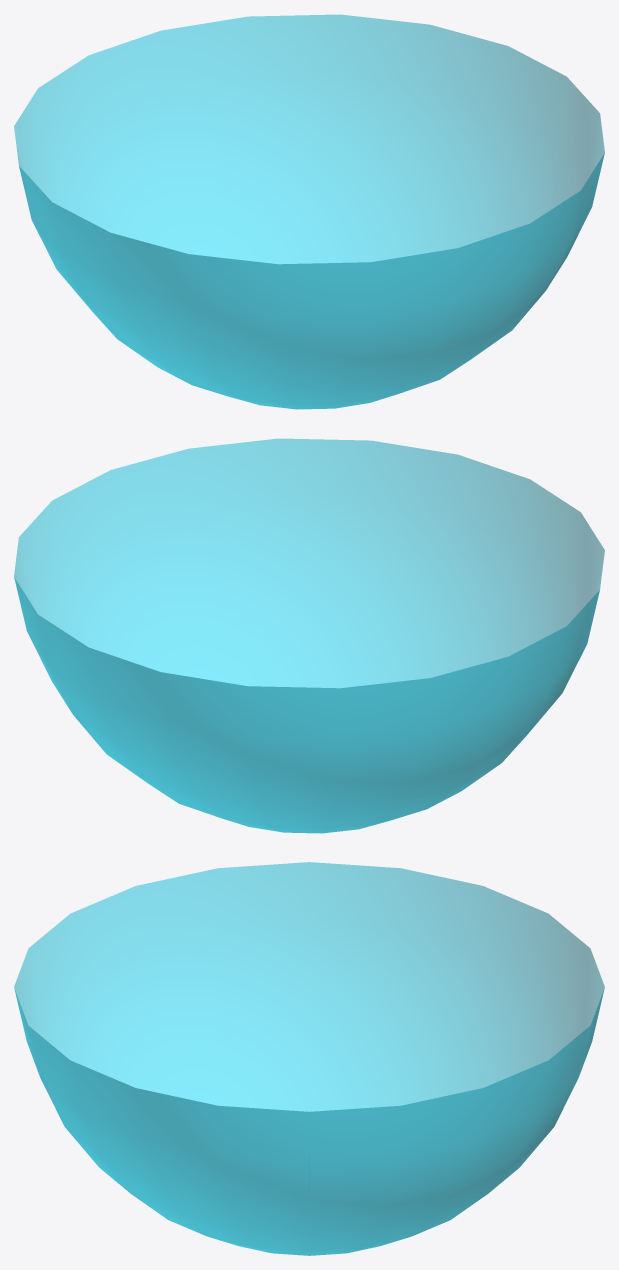
The model's file is CupulaRing.fbx.
3 renders of one model, top to bottom at view 1: azimuth 30°, elevation 25°; view 2: azimuth 150°, elevation 25°; view 3: azimuth 270°, elevation 25°, orthographic.
Visible parts, largest first — view 1: Sphere; view 2: Sphere; view 3: Sphere.
Part boxes in pixels (x1,y1,x2,y2): Sphere: (14, 14, 604, 409); Sphere: (14, 438, 604, 833); Sphere: (14, 862, 604, 1255).
Size of the model in its own units: 565 by 255 by 565.
